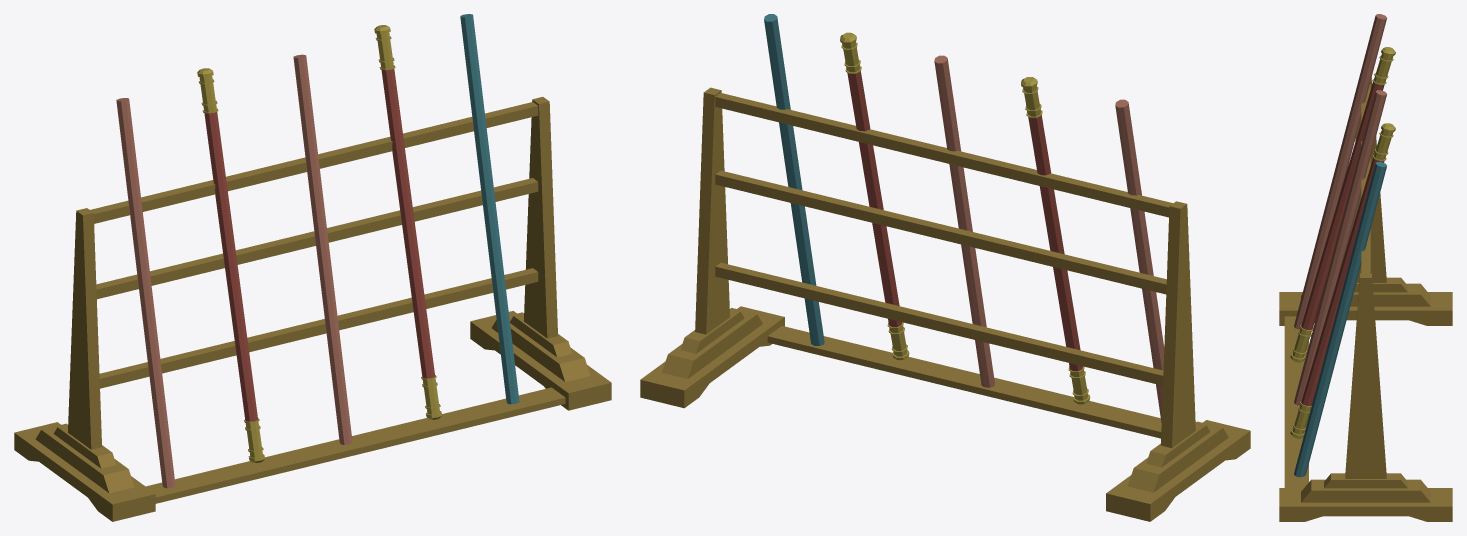
Rendered from Staff_Rack.fbx.
3 renders of one model, left to right at view 1: azimuth 30°, elevation 25°; view 2: azimuth 150°, elevation 25°; view 3: azimuth 270°, elevation 25°, orthographic. The views are drawn at different scales.
Visible parts, largest first — view 1: Staff_Rack_Geo, Jingu_02_Geo, Jingu_04_Geo, Jingu_05_Geo, Jingu_03_Geo, Jingu_01_Geo; view 2: Staff_Rack_Geo, Jingu_02_Geo, Jingu_04_Geo, Jingu_03_Geo, Jingu_05_Geo, Jingu_01_Geo; view 3: Staff_Rack_Geo, Jingu_05_Geo, Jingu_03_Geo, Jingu_01_Geo, Jingu_02_Geo, Jingu_04_Geo.
Part boxes in pixels (x1,y1,x2,y2): Staff_Rack_Geo: (14,97,611,521); Jingu_02_Geo: (197,68,264,462); Jingu_04_Geo: (374,25,442,419); Jingu_05_Geo: (460,14,519,404); Jingu_03_Geo: (293,54,352,444); Jingu_01_Geo: (116,98,175,488); Staff_Rack_Geo: (640,87,1250,521); Jingu_02_Geo: (1021,77,1090,404); Jingu_04_Geo: (840,32,909,360); Jingu_03_Geo: (934,55,994,387); Jingu_05_Geo: (764,14,824,345); Jingu_01_Geo: (1115,99,1164,422); Staff_Rack_Geo: (1279,77,1452,521); Jingu_05_Geo: (1294,162,1386,477); Jingu_03_Geo: (1294,90,1386,405); Jingu_01_Geo: (1294,14,1386,329); Jingu_02_Geo: (1290,47,1395,362); Jingu_04_Geo: (1290,123,1395,438).
Size of the model in its own units: 72.61 by 51.4 by 24.77.
